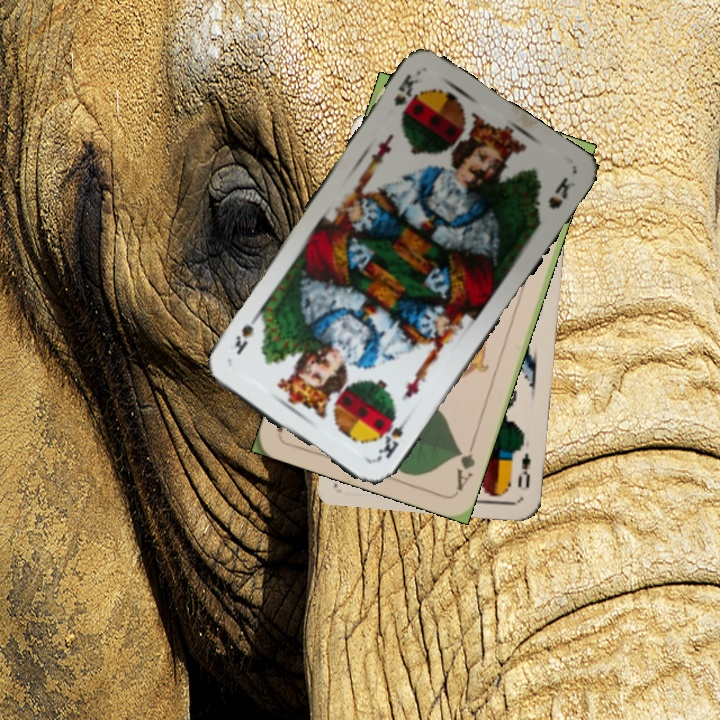EO: (513, 439, 534, 491)
GA: (452, 436, 478, 493)
SK: (372, 411, 413, 463), (389, 69, 421, 118)
